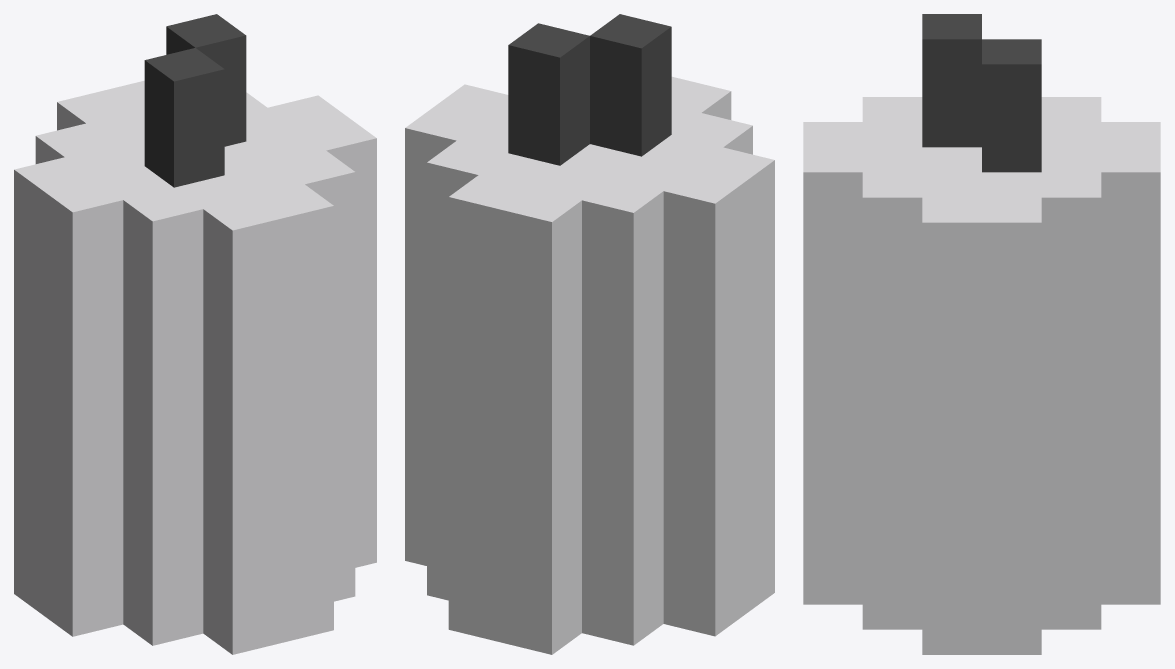
Rendered from Medieval Assets-245-Decoration - Candle - Variant1.obj.
3 renders of one model, left to right at view 1: azimuth 30°, elevation 25°; view 2: azimuth 150°, elevation 25°; view 3: azimuth 270°, elevation 25°, orthographic.
Parts seen in each view (by area): view 1: Decoration - Candle - Variant1; view 2: Decoration - Candle - Variant1; view 3: Decoration - Candle - Variant1.
Part boxes in pixels (left/top/right/bottom): Decoration - Candle - Variant1: left=14, top=14, right=376, bottom=654; Decoration - Candle - Variant1: left=405, top=14, right=774, bottom=654; Decoration - Candle - Variant1: left=803, top=14, right=1160, bottom=654.
Size of the model in its own units: 0.6 by 1 by 0.6.
1 material, 1 textured.
